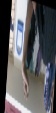hand: (21, 67, 31, 102)
